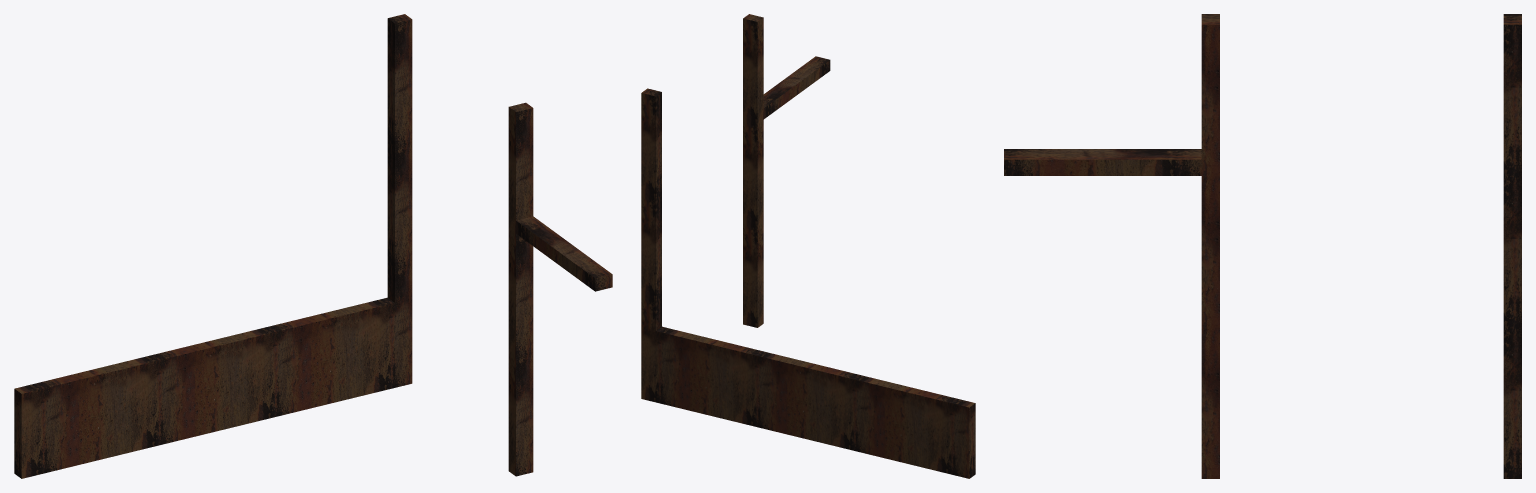
Rendered from antepecho.FBX.
The picture shows the model from 3 angles, left to right: view 1: azimuth 30°, elevation 25°; view 2: azimuth 150°, elevation 25°; view 3: azimuth 270°, elevation 25°; orthographic projection. The views are drawn at different scales.
Parts seen in each view (by area): view 1: antepecho; view 2: antepecho; view 3: antepecho.
Boxes of the visible parts, x1,y1,x2,y2 form: antepecho: (14, 14, 612, 478); antepecho: (641, 14, 975, 478); antepecho: (1004, 14, 1521, 478).
Bounding box in the file's own units: 132 × 118 × 122.
